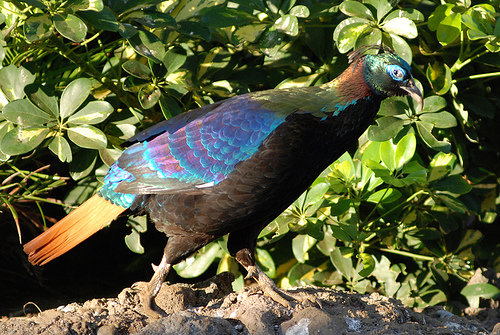bird: (14, 40, 434, 301)
